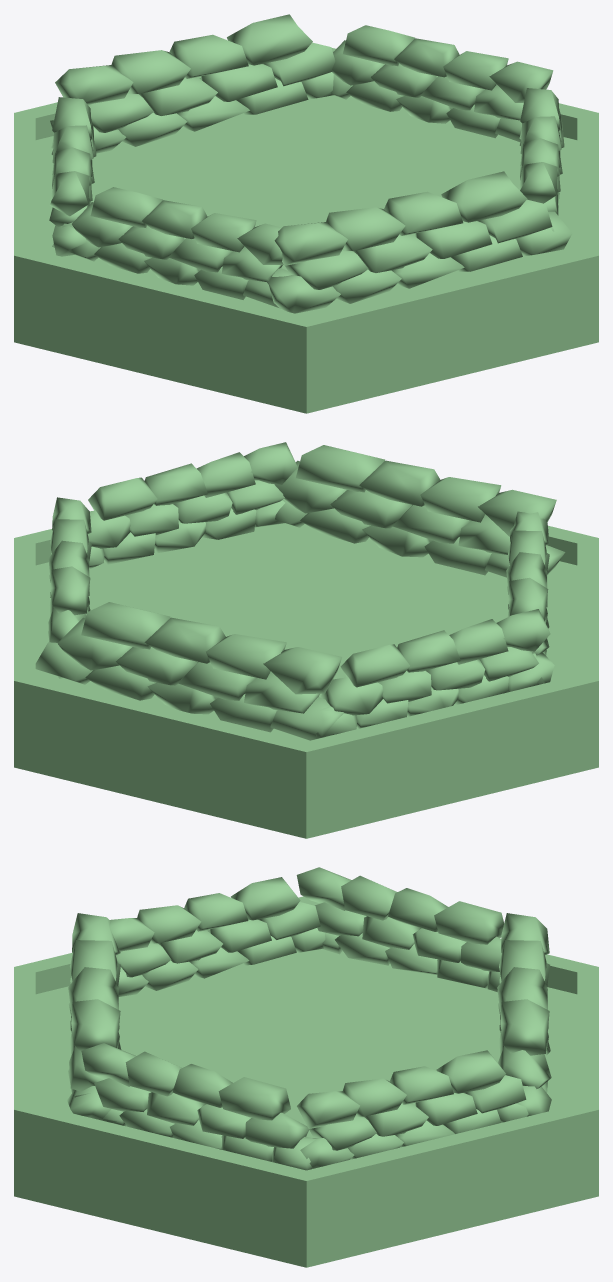
The model's file is okop.fbx.
3 views of the same model, one above another, from view 1: azimuth 30°, elevation 25°; view 2: azimuth 150°, elevation 25°; view 3: azimuth 270°, elevation 25° (orthographic).
Visible parts, largest first — view 1: polySurface6; view 2: polySurface6; view 3: polySurface6.
Part boxes in pixels (x1,y1,x2,y2): polySurface6: (14, 14, 598, 413); polySurface6: (14, 442, 598, 838); polySurface6: (14, 867, 598, 1267).
Size of the model in its own units: 23.21 by 5.82 by 20.1.
